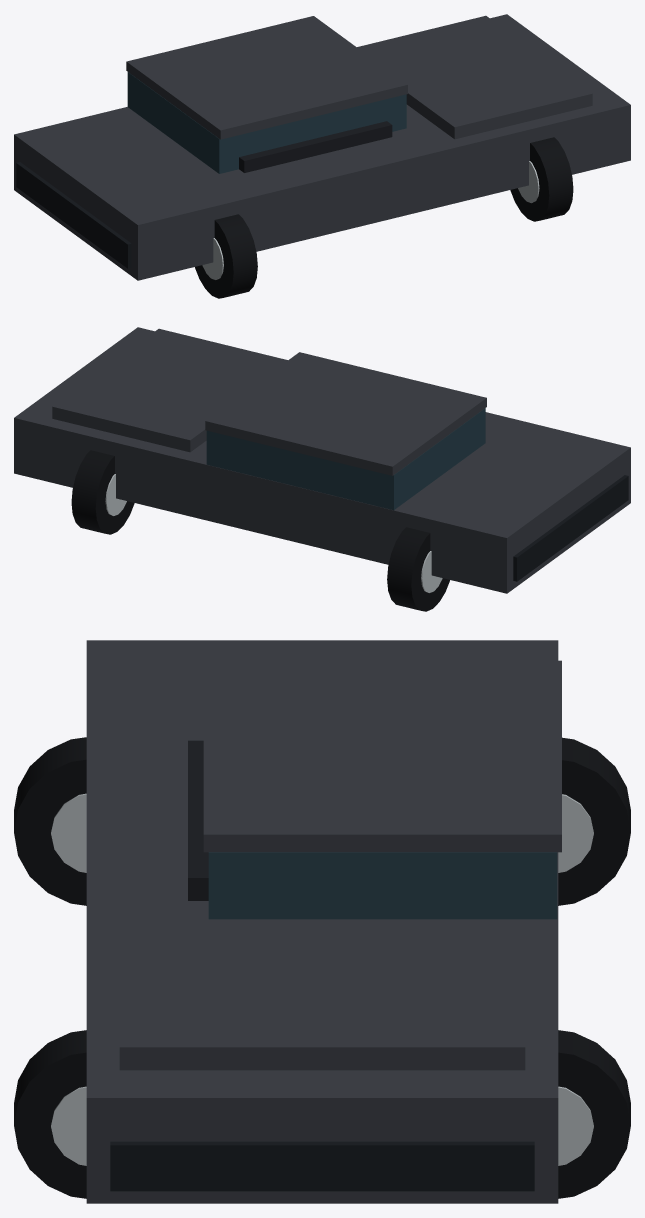
File: lambo_sesto_elemento.glb
3 renders of one model, top to bottom at view 1: azimuth 30°, elevation 25°; view 2: azimuth 150°, elevation 25°; view 3: azimuth 270°, elevation 25°, orthographic. The views are drawn at different scales.
Parts seen in each view (by area): view 1: body, roof, hood, cabin, rear_right_wheel, front_right_wheel, rear_bumper, interior; view 2: body, roof, hood, cabin, rear_left_wheel, front_left_wheel, rear_bumper; view 3: body, roof, hood, cabin, front_bumper, rear_right_wheel, front_left_wheel, front_right_wheel, rear_left_wheel, interior.
Boxes of the visible parts, box(x1,y1,x2,y2) form: body: box(14, 14, 630, 280); roof: box(126, 16, 407, 139); hood: box(357, 15, 592, 139); cabin: box(127, 72, 406, 173); rear_right_wheel: box(195, 214, 257, 298); front_right_wheel: box(510, 137, 573, 221); rear_bumper: box(16, 162, 131, 268); interior: box(239, 121, 392, 172); body: box(14, 327, 630, 593); roof: box(205, 352, 486, 475); hood: box(52, 328, 287, 452); cabin: box(206, 408, 485, 510); rear_left_wheel: box(387, 527, 449, 611); front_left_wheel: box(71, 450, 134, 534); rear_bumper: box(513, 475, 628, 581); body: box(86, 640, 558, 1203); roof: box(203, 660, 561, 852); hood: box(119, 919, 525, 1070); cabin: box(208, 852, 557, 919); front_bumper: box(110, 1141, 534, 1191); rear_right_wheel: box(14, 737, 86, 905); front_left_wheel: box(558, 1030, 630, 1198); front_right_wheel: box(14, 1030, 86, 1198); rear_left_wheel: box(558, 737, 630, 905); interior: box(188, 740, 208, 900).
Bounding box in the file's own units: 4.55 × 1.18 × 2.55.
